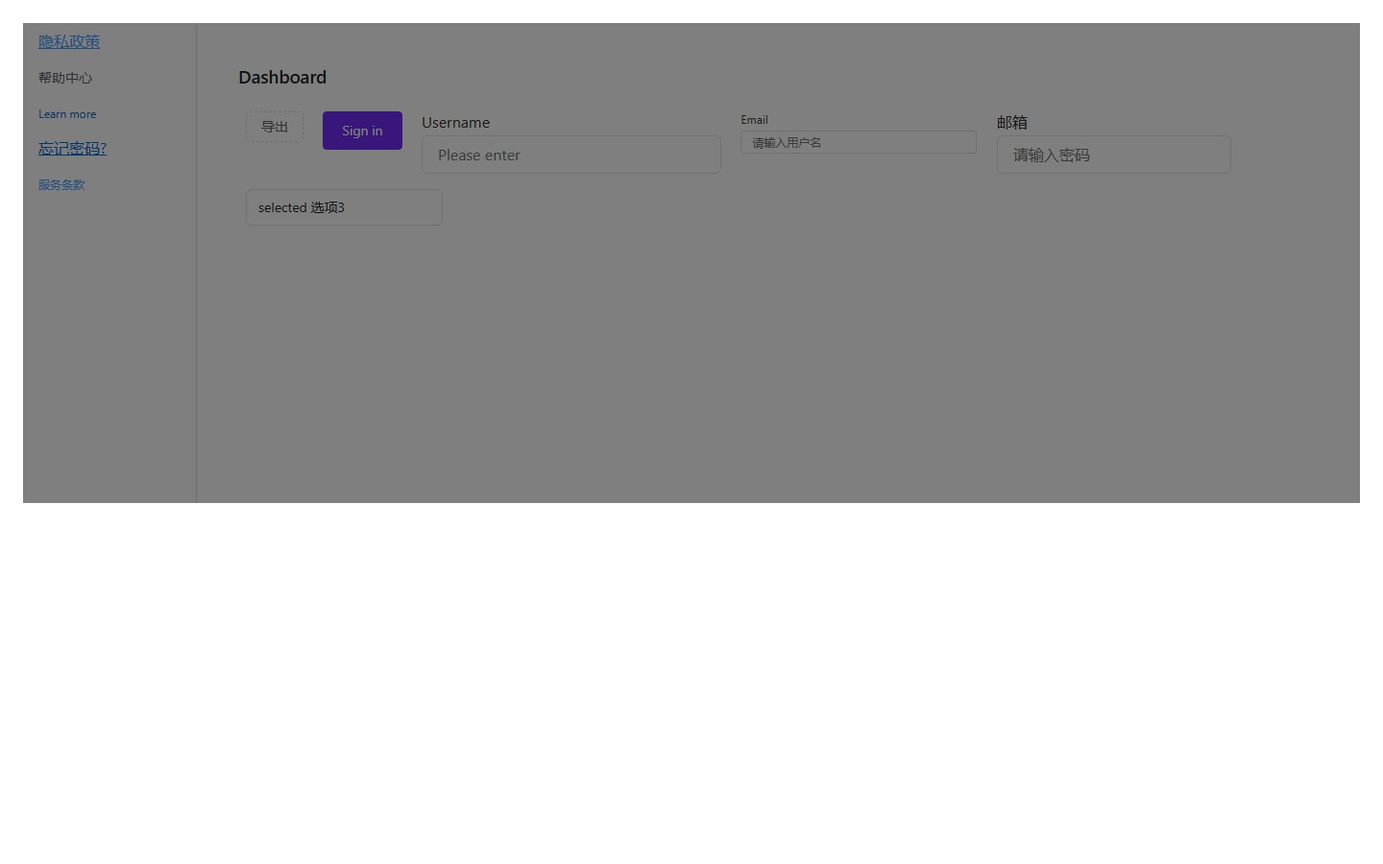button: (323, 111, 402, 149), (246, 111, 303, 142)
input: (422, 135, 721, 173), (997, 135, 1231, 173), (741, 130, 977, 153)
link: (38, 137, 107, 157), (38, 31, 100, 51), (38, 68, 92, 86), (38, 106, 96, 121), (38, 177, 85, 192)
modal: (23, 23, 1360, 503)
select: (246, 189, 443, 225)
